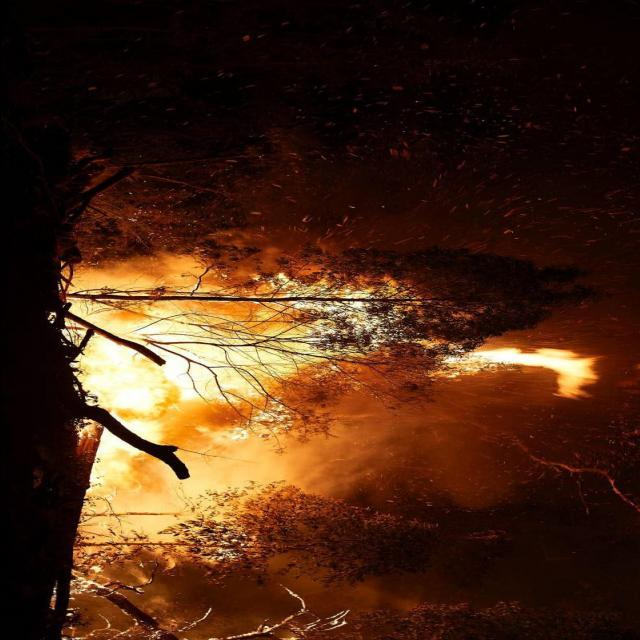Fire: (56, 250, 326, 560), (473, 346, 607, 406)
